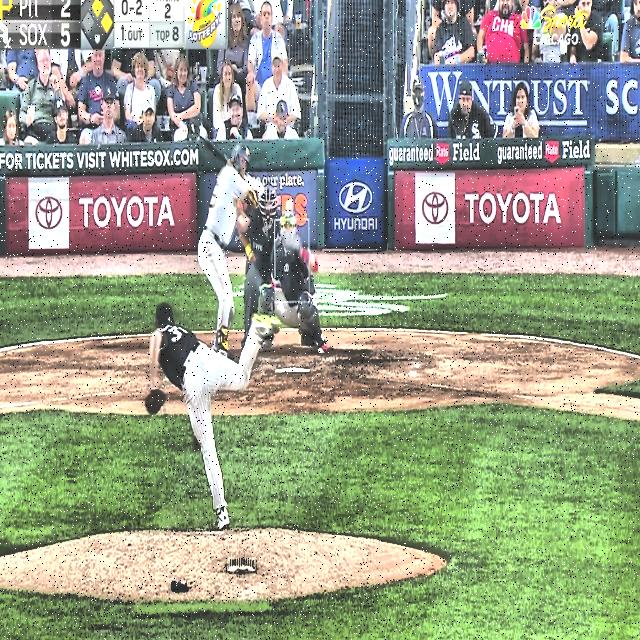baseball: (286, 199, 292, 210)
